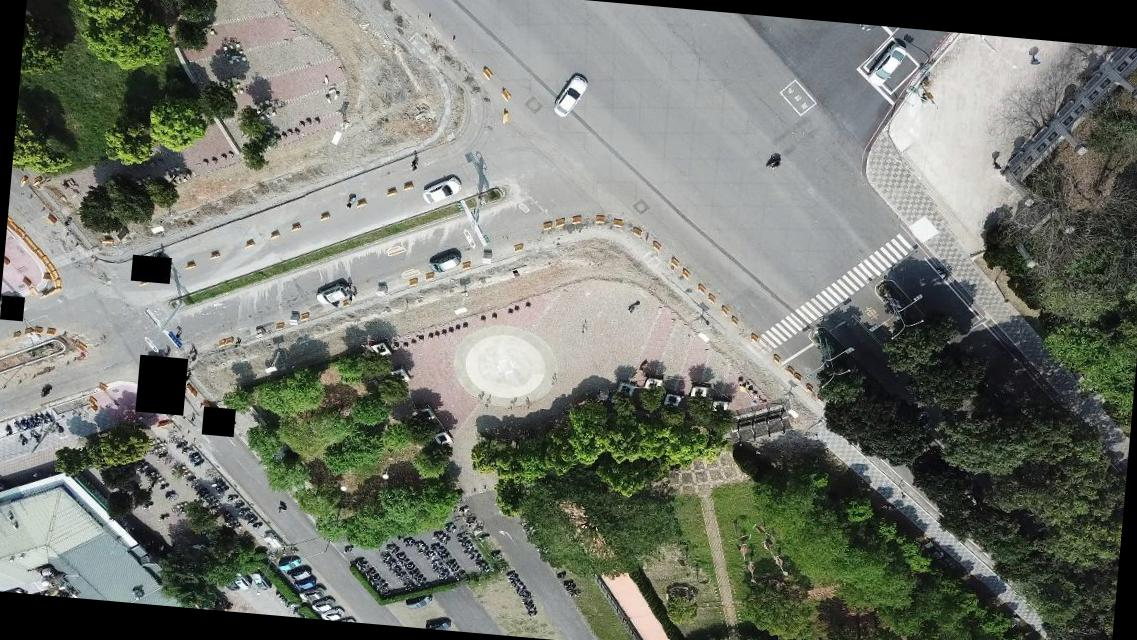vehicle: (864, 39, 907, 88), (552, 72, 588, 120), (421, 175, 462, 207), (426, 250, 460, 276), (316, 281, 348, 307), (404, 591, 433, 612), (284, 564, 312, 582), (248, 570, 272, 591), (298, 584, 325, 602), (310, 594, 335, 612), (231, 569, 251, 591), (319, 604, 344, 620), (276, 556, 300, 572), (292, 575, 316, 591), (424, 617, 452, 630)
